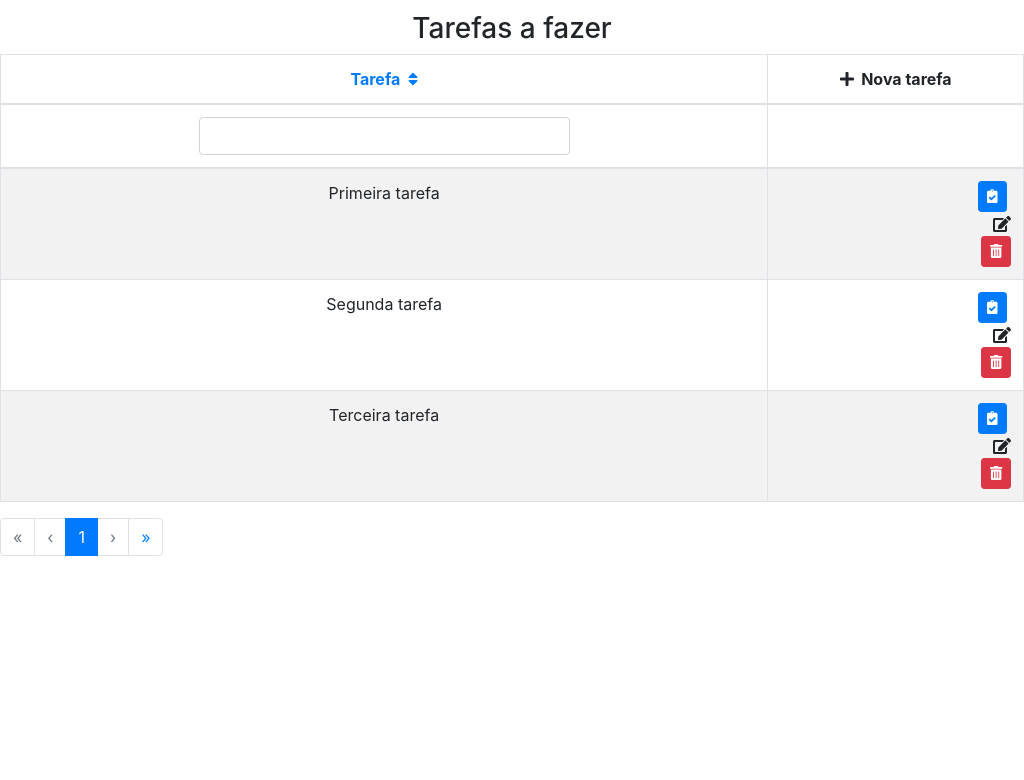
Test case: Teste do componente de listagem de tarefas › deve filtrar os dados da tabela de tarefas
The image size is (1024, 780).
In the field with test id "txt-tarefa": point(384, 136) left=199, top=117, right=570, bottom=155, type "Primeira tarefa"
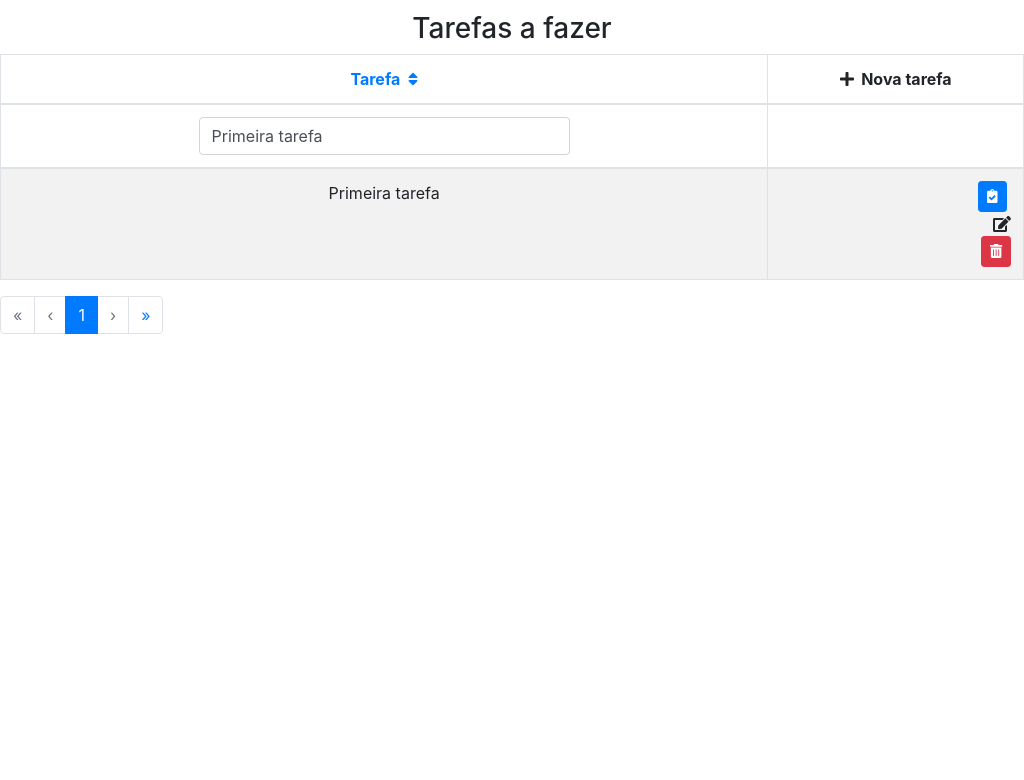
Expected: the table with test id "tabela" shows "Primeira tarefa", left=329, top=183, right=440, bottom=203
Now the table with test id "tabela" no longer shows "Segunda tarefa", box left=0, top=54, right=1023, bottom=280
Now the table with test id "tabela" no longer shows "Terceira tarefa", box left=0, top=54, right=1023, bottom=280
